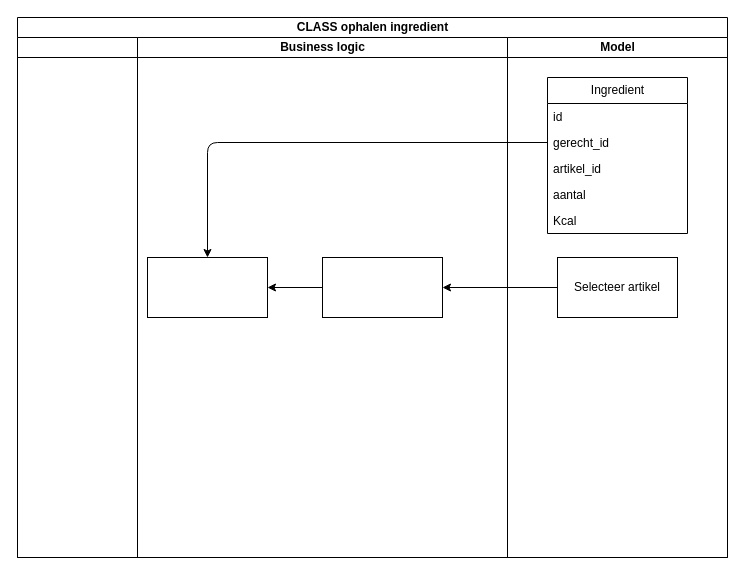
Image size: 745x575. Some labels were removed from this diagram. The shapes that lost their labels are listed below. From the top down, each one's centre as x and y in pixels, then its label:
At [77,297]: "Controller".
At [207,287]: "ophalen ingredient".
At [382,287]: "Ophalen artikel".
